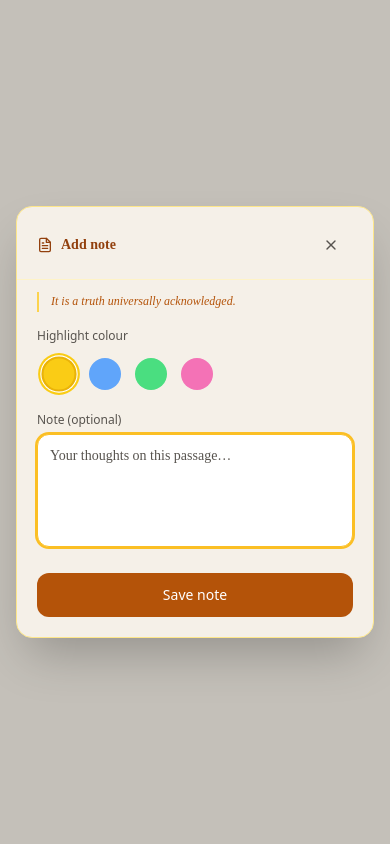
it: AnnotationToolbar — handleSave error paths (line 91) › shows error.message when Error is thrown during save
This screenshot has width=390, height=844.
Click the button "Save note".
click(195, 595)  # box [37, 573, 353, 617]
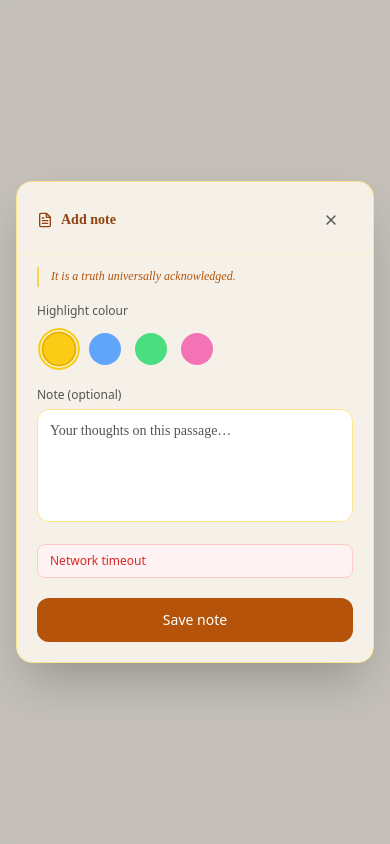
Expected: the text "Network timeout" is shown, [37, 544, 353, 578]
